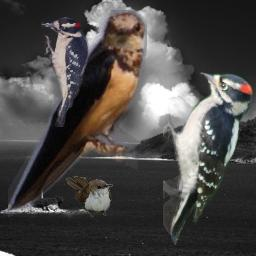Cuckoo: (66, 176, 113, 218)
Swallow: (8, 10, 147, 217)
Woodpecker: (163, 67, 256, 245), (41, 15, 90, 127)
